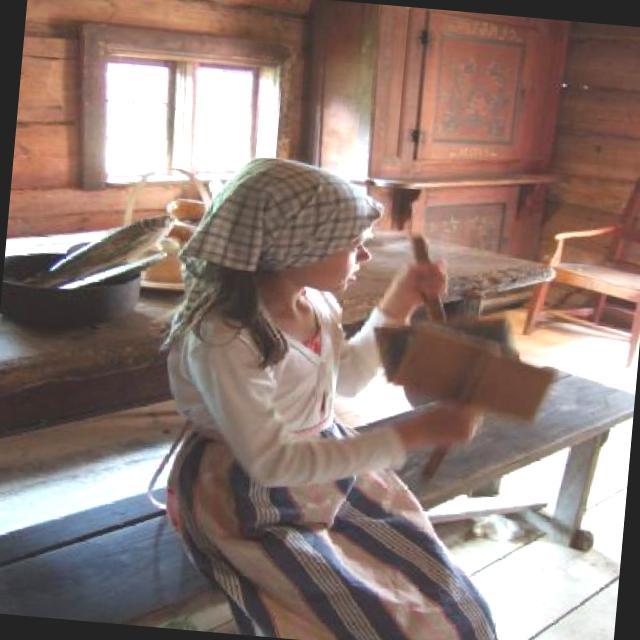Person: (125, 153, 465, 640)
